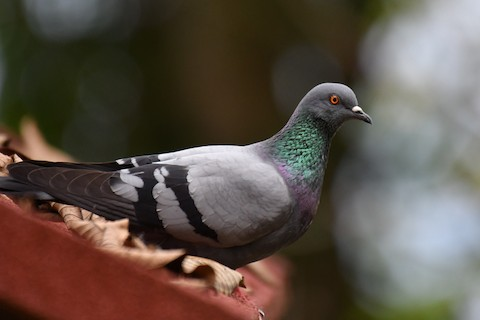pigeon: (7, 77, 379, 269)
